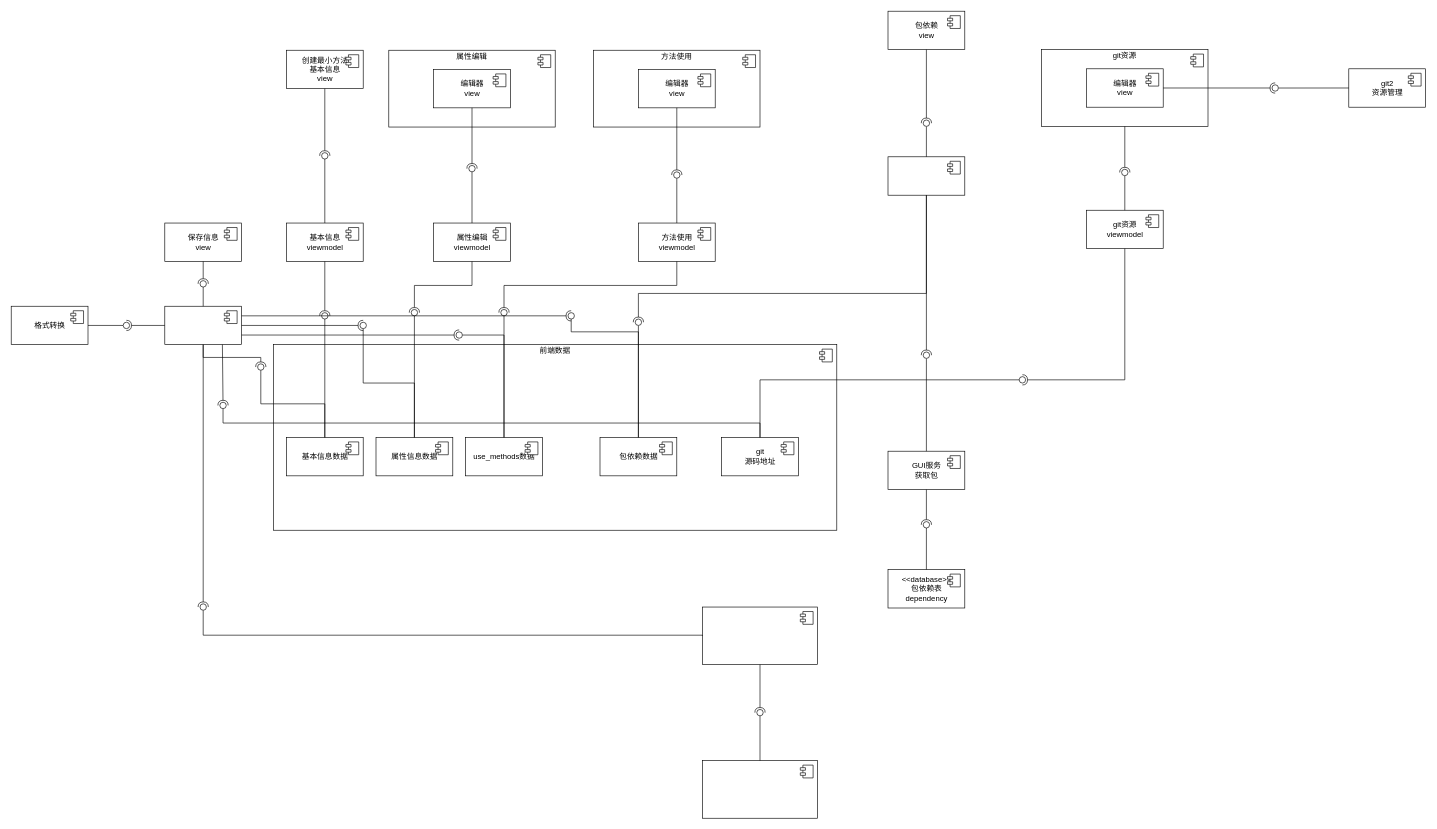
Image size: 1437x829. Some labels were removed from this diagram. The shapes that lost their labels are listed below. From the top down, each one's centre as x and y in pixels, then its label:
At point 926,175: "包依赖 viewmodel".
At point 203,325: "保存信息 viewmodel".
At point 760,635: "GUI服务 保存原子方法".
At point 760,789: "<<database>> components".
